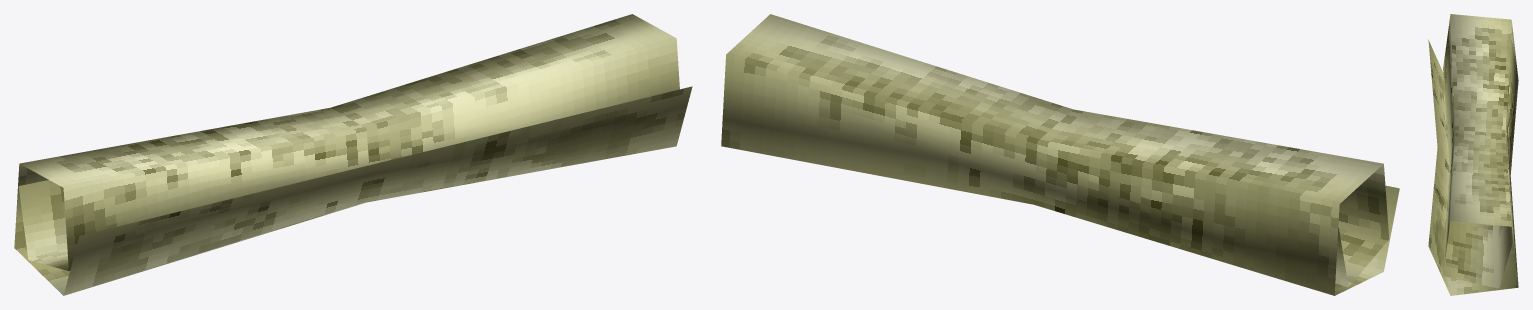
The model's file is a_SWImap03_02.glb.
The picture shows the model from 3 angles, left to right: view 1: azimuth 30°, elevation 25°; view 2: azimuth 150°, elevation 25°; view 3: azimuth 270°, elevation 25°; orthographic projection. The views are drawn at different scales.
Parts seen in each view (by area): view 1: a_SWImap03_02; view 2: a_SWImap03_02; view 3: a_SWImap03_02.
Part boxes in pixels (box(x1,y1,x2,y2)): a_SWImap03_02: box(14, 14, 692, 295); a_SWImap03_02: box(721, 14, 1399, 295); a_SWImap03_02: box(1428, 14, 1518, 295).
Size of the model in its own units: 0.7348 by 0.1238 by 0.1352.
Materials: 1 (1 with a texture image).
